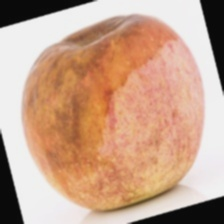apple: (17, 27, 199, 199)
